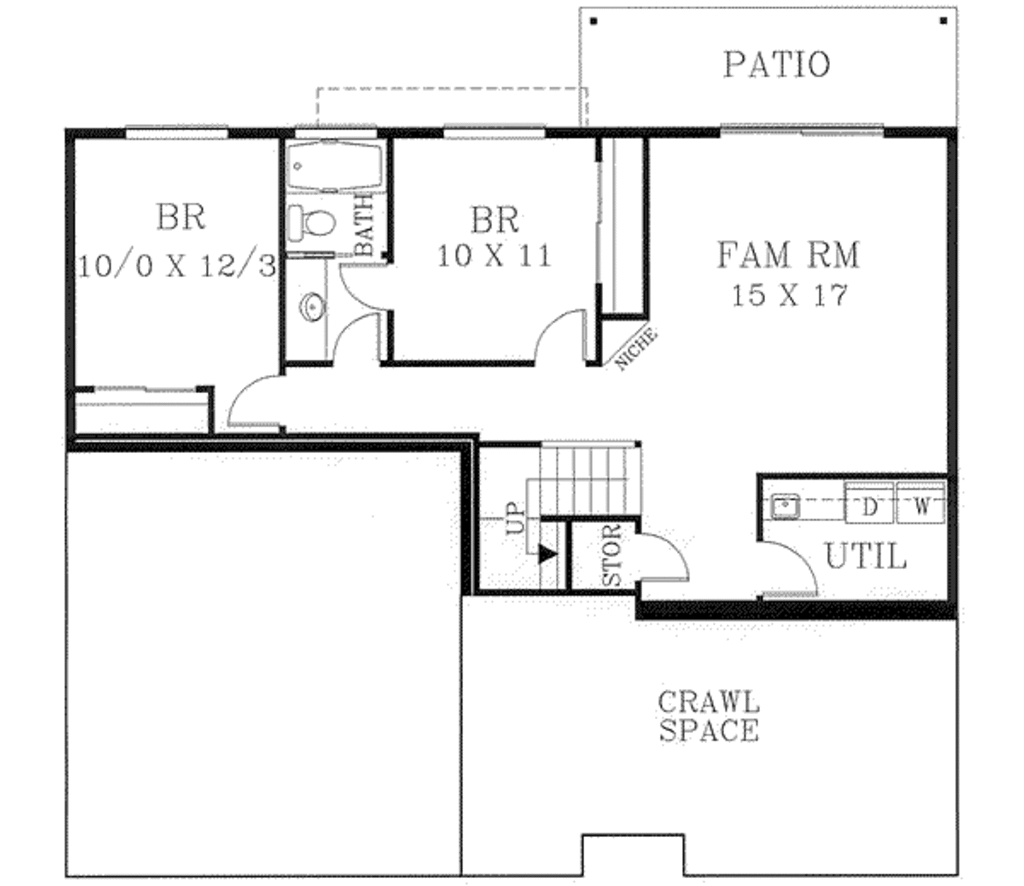door: (520, 300, 594, 367), (756, 534, 820, 608), (628, 527, 701, 587), (223, 371, 295, 430), (328, 315, 391, 365), (342, 261, 397, 318)
large_sink: (280, 193, 345, 245)
sink: (769, 489, 815, 526)
small_sink: (282, 244, 331, 368)
stairs: (476, 429, 639, 590)
tub: (287, 126, 389, 197)
window: (717, 118, 891, 145), (113, 119, 238, 142), (441, 118, 545, 144), (293, 119, 374, 141)
